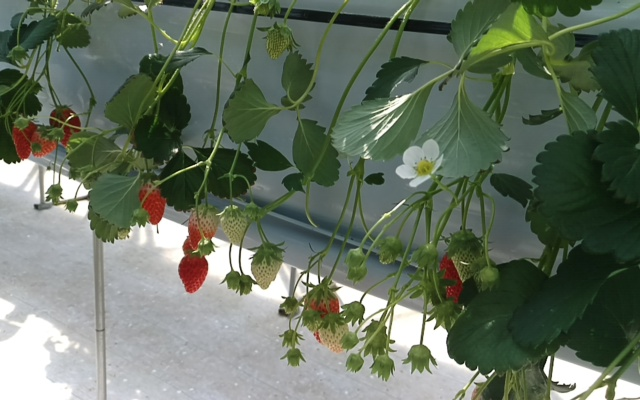GreenStrawberry: (249, 242, 284, 290), (452, 231, 483, 284), (186, 201, 218, 250), (219, 204, 248, 248), (318, 316, 351, 354)
MatureStrawberry: (301, 283, 341, 347), (439, 246, 468, 306), (135, 176, 167, 225), (47, 104, 81, 148), (177, 250, 209, 295), (12, 117, 39, 162), (31, 125, 58, 159)
